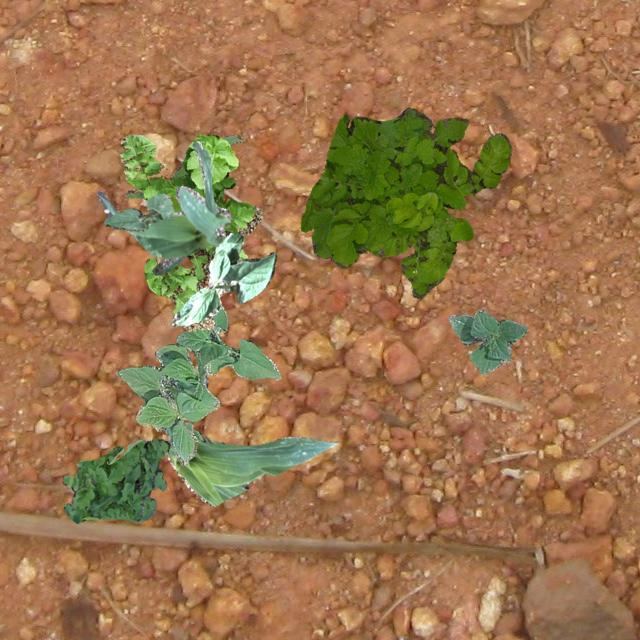crop: (116, 304, 280, 464), (96, 140, 230, 274), (164, 428, 338, 506), (170, 232, 276, 326), (124, 134, 242, 212), (448, 308, 526, 374), (162, 372, 206, 458), (104, 192, 172, 230)
weed: (300, 106, 510, 298), (120, 133, 262, 330), (62, 438, 168, 522)
